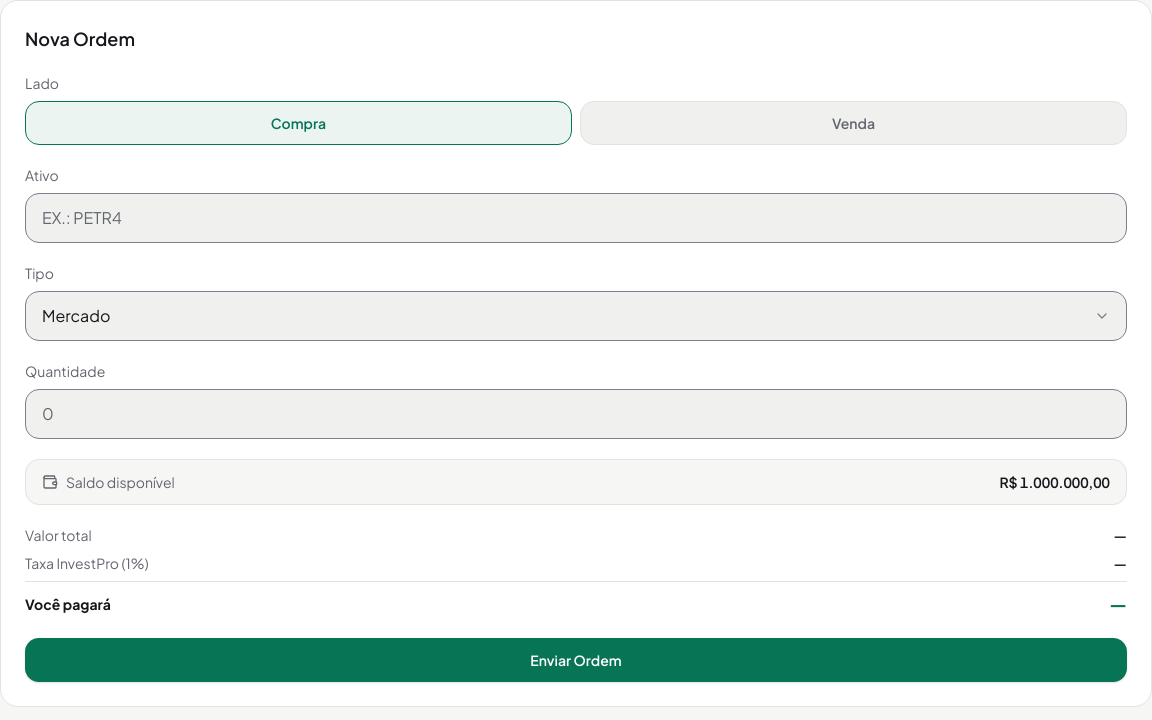
Test: NewOrderForm › venda sem posições mostra o estado vazio e bloqueia o envio
The image size is (1152, 720).
Click the button "Venda" at (854, 123), box top-left (580, 101), bottom-right (1127, 145)
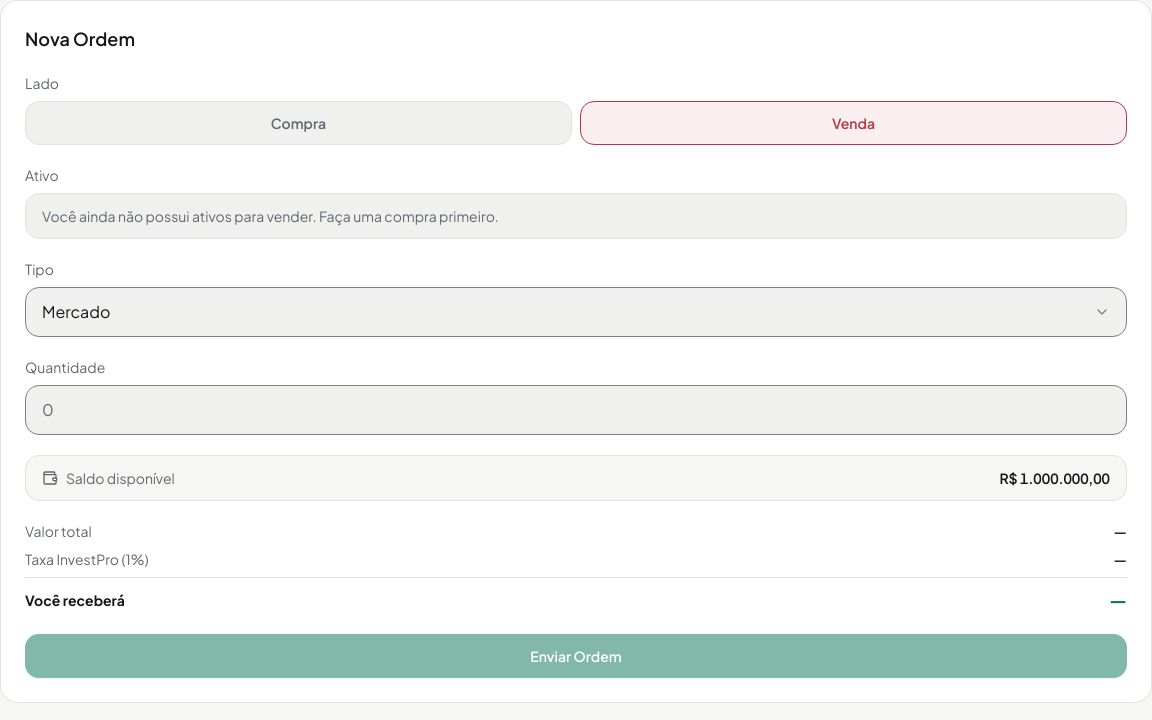
Now the text "Você ainda não possui ativos para vender" is shown, box top-left (42, 207), bottom-right (499, 225)
Now the button "Enviar Ordem" is disabled, box top-left (25, 634), bottom-right (1127, 678)
